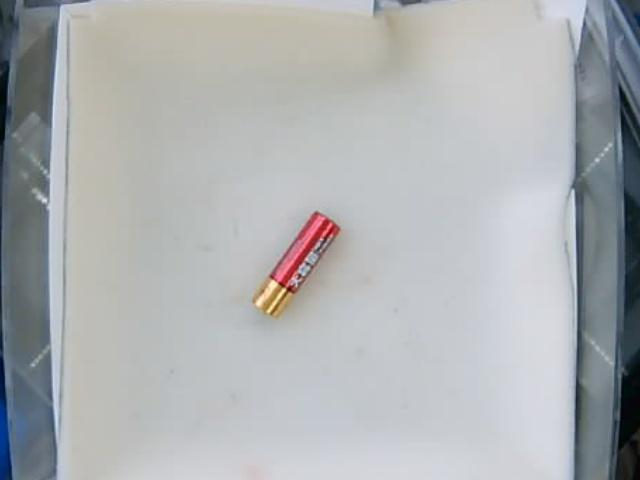Battery: (251, 208, 341, 316)
